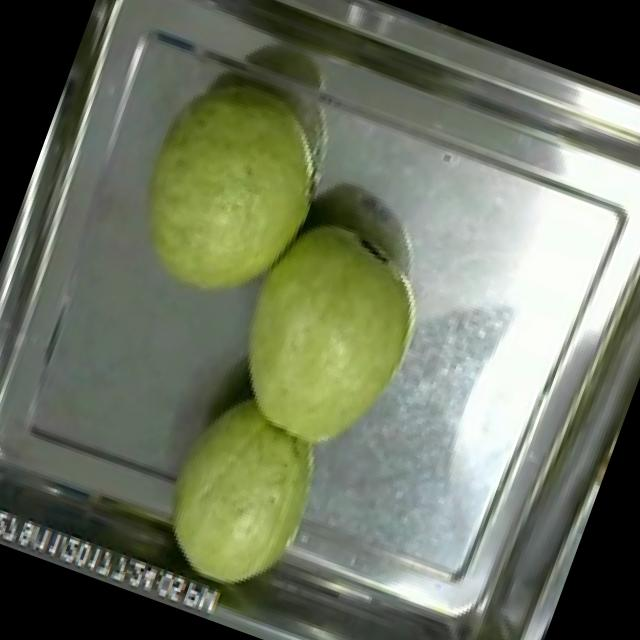Fruit: (198, 195, 451, 476), (104, 52, 357, 332), (137, 380, 347, 612)
